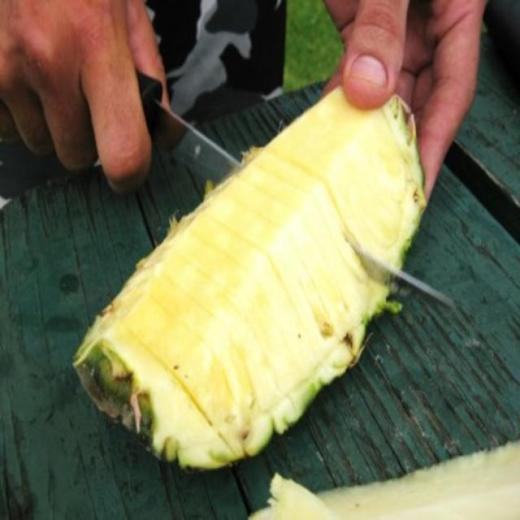Mango: (71, 80, 428, 471)
